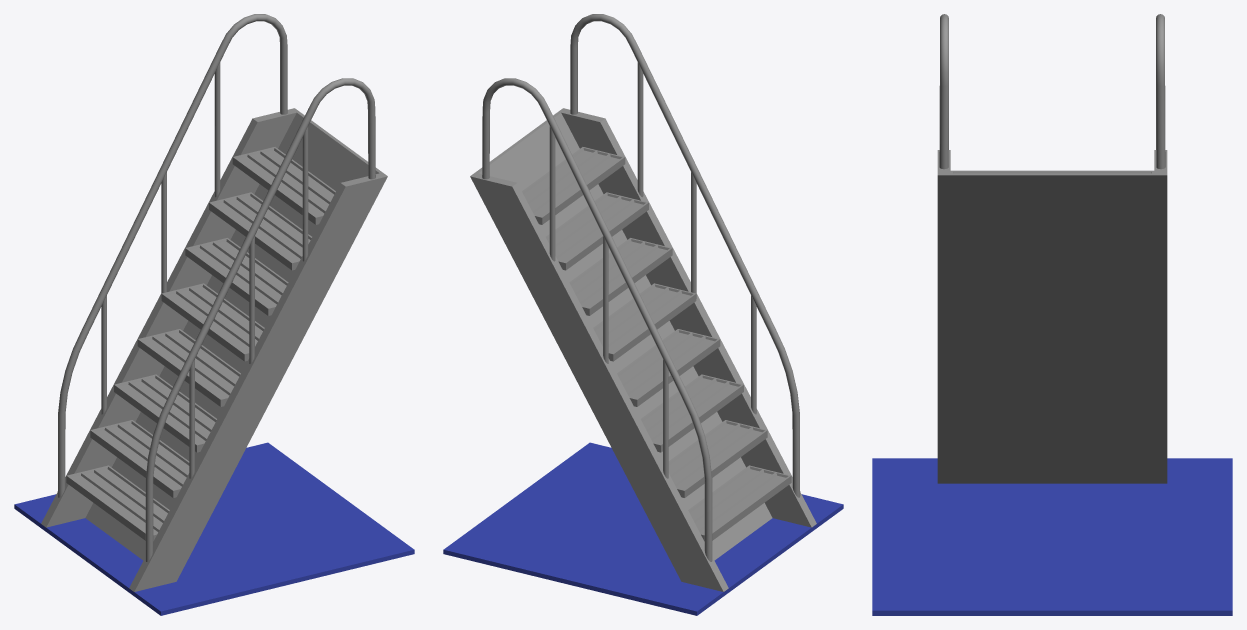
Rendered from floor_stairs.fbx.
The picture shows the model from 3 angles, left to right: view 1: azimuth 30°, elevation 25°; view 2: azimuth 150°, elevation 25°; view 3: azimuth 270°, elevation 25°; orthographic projection. The views are drawn at different scales.
Parts seen in each view (by area): view 1: floor_stairs; view 2: floor_stairs; view 3: floor_stairs.
Boxes of the visible parts, <box> form: floor_stairs: <box>14,14,414,615</box>; floor_stairs: <box>443,14,843,615</box>; floor_stairs: <box>872,14,1232,615</box>.
Bounding box in the file's own units: 300 × 525 × 300.
